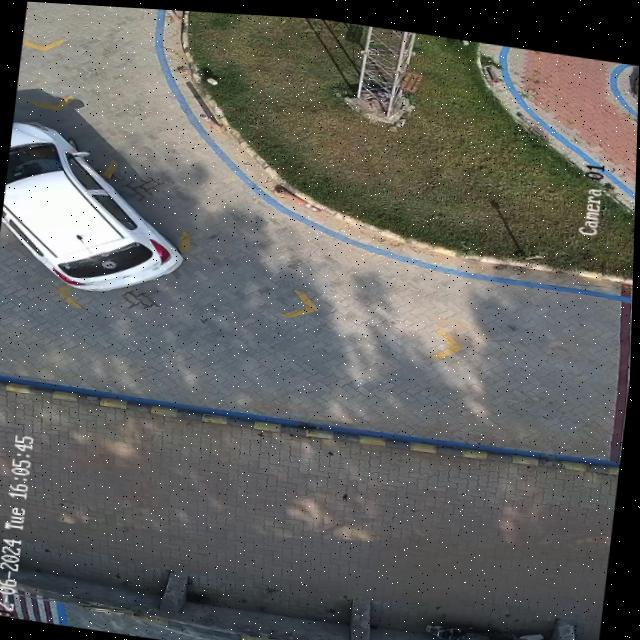car: (2, 120, 184, 289)
